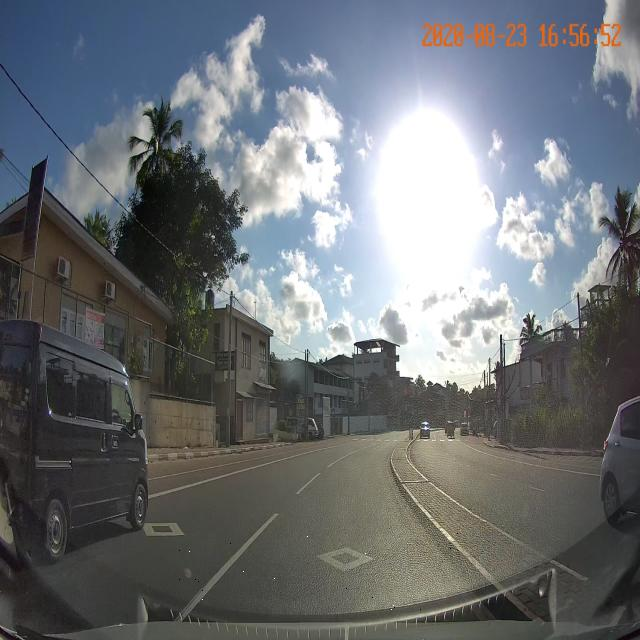diamond: (176, 534, 466, 610)
